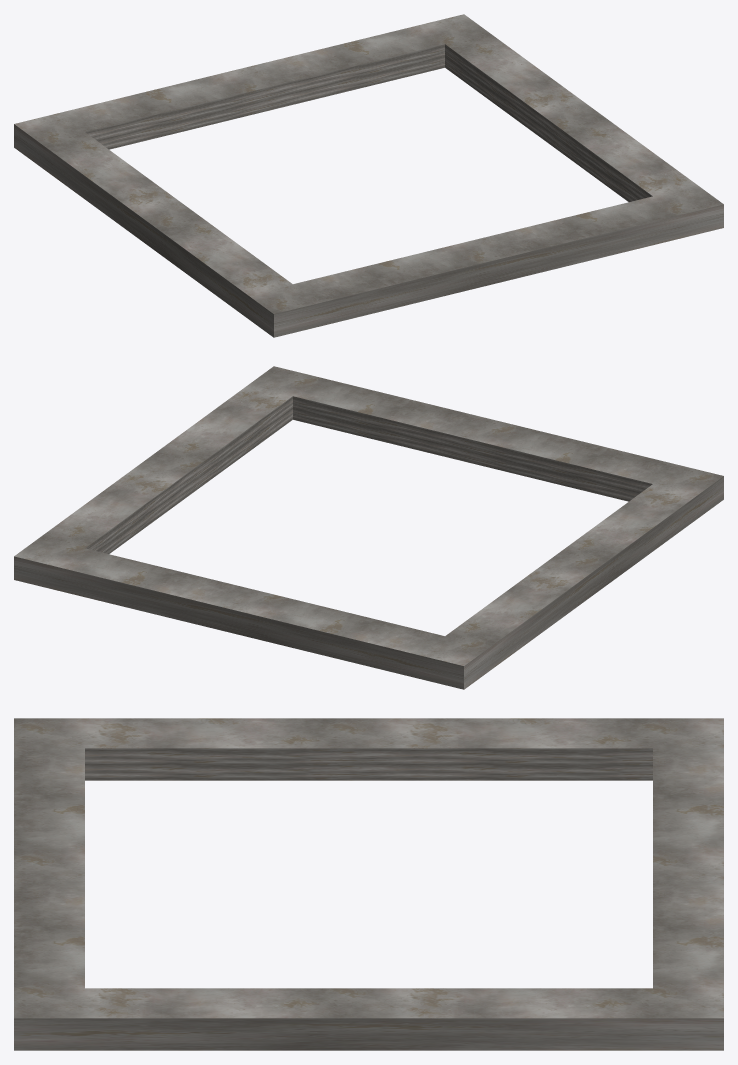
File: Pressure_Plate_Housing.glb
The picture shows the model from 3 angles, top to bottom: view 1: azimuth 30°, elevation 25°; view 2: azimuth 150°, elevation 25°; view 3: azimuth 270°, elevation 25°; orthographic projection. The views are drawn at different scales.
Parts seen in each view (by area): view 1: Pressure_Plate_Housing; view 2: Pressure_Plate_Housing; view 3: Pressure_Plate_Housing.
Part boxes in pixels (left/top/right/bottom): Pressure_Plate_Housing: left=14, top=14, right=723, bottom=337; Pressure_Plate_Housing: left=14, top=366, right=723, bottom=689; Pressure_Plate_Housing: left=14, top=718, right=723, bottom=1050.
Size of the model in its own units: 2 by 0.1 by 2.
Materials: 1 (1 with a texture image).
